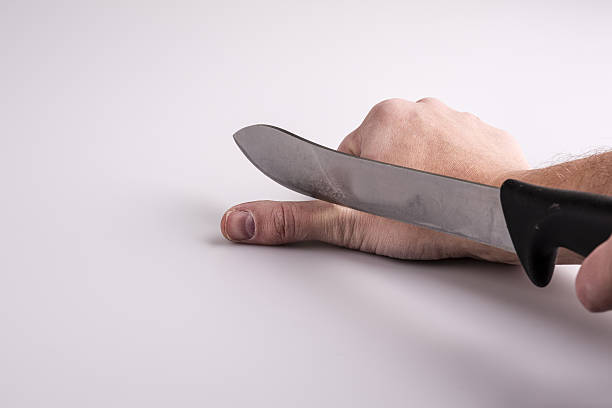knife: (230, 121, 612, 289)
